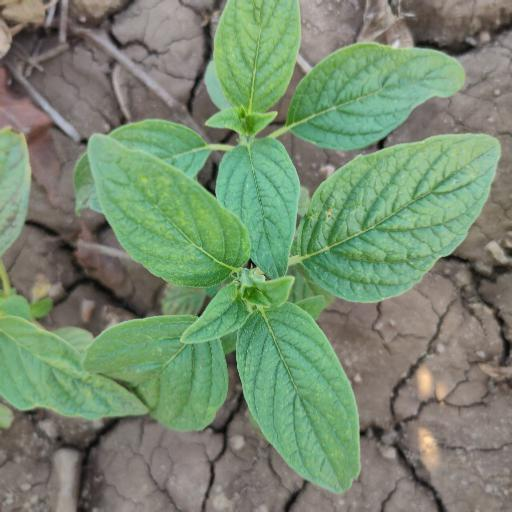crop: (1, 1, 504, 496)
